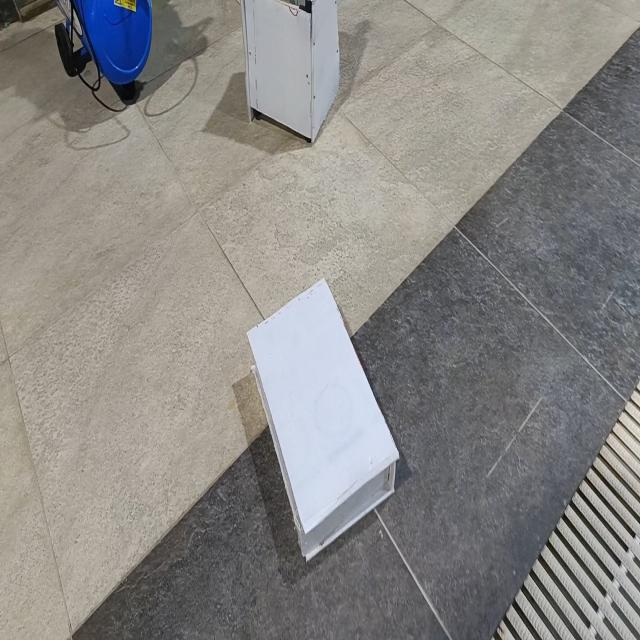Cube: (240, 0, 340, 145)
Cuboid: (245, 276, 400, 562)
